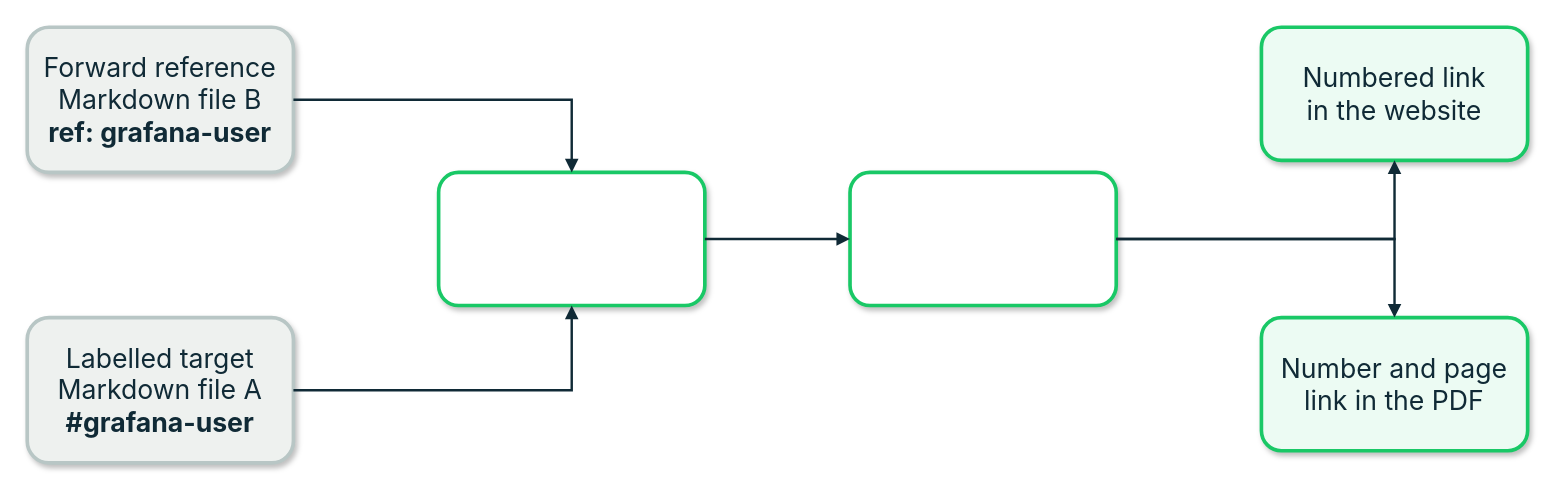
The diagram is 1557 pixels wide and 494 high, and some of its shapes have lost their labels. The centre of each missing label's shape, as x and y in pixels:
Collect labels across all document pages: the point at 572,240
Resolve references after collection: the point at 984,240
